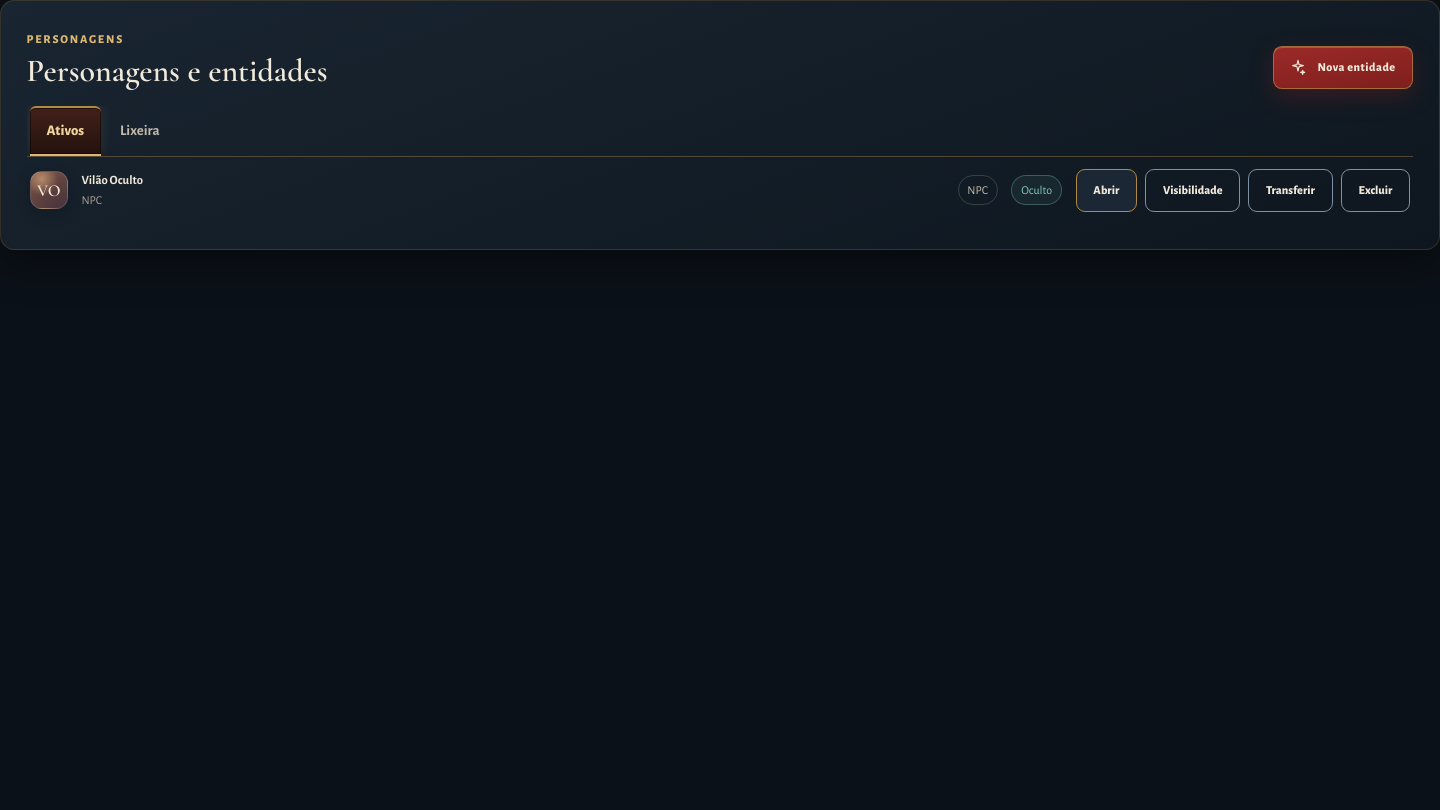
Test: CharacterList — 6.1 gestão de personagens › Narrador revela parcialmente uma entidade oculta (8.2): PUT envia a revelação exata
Click the button "Visibilidade" at (1193, 190), box left=1145, top=169, right=1240, bottom=212
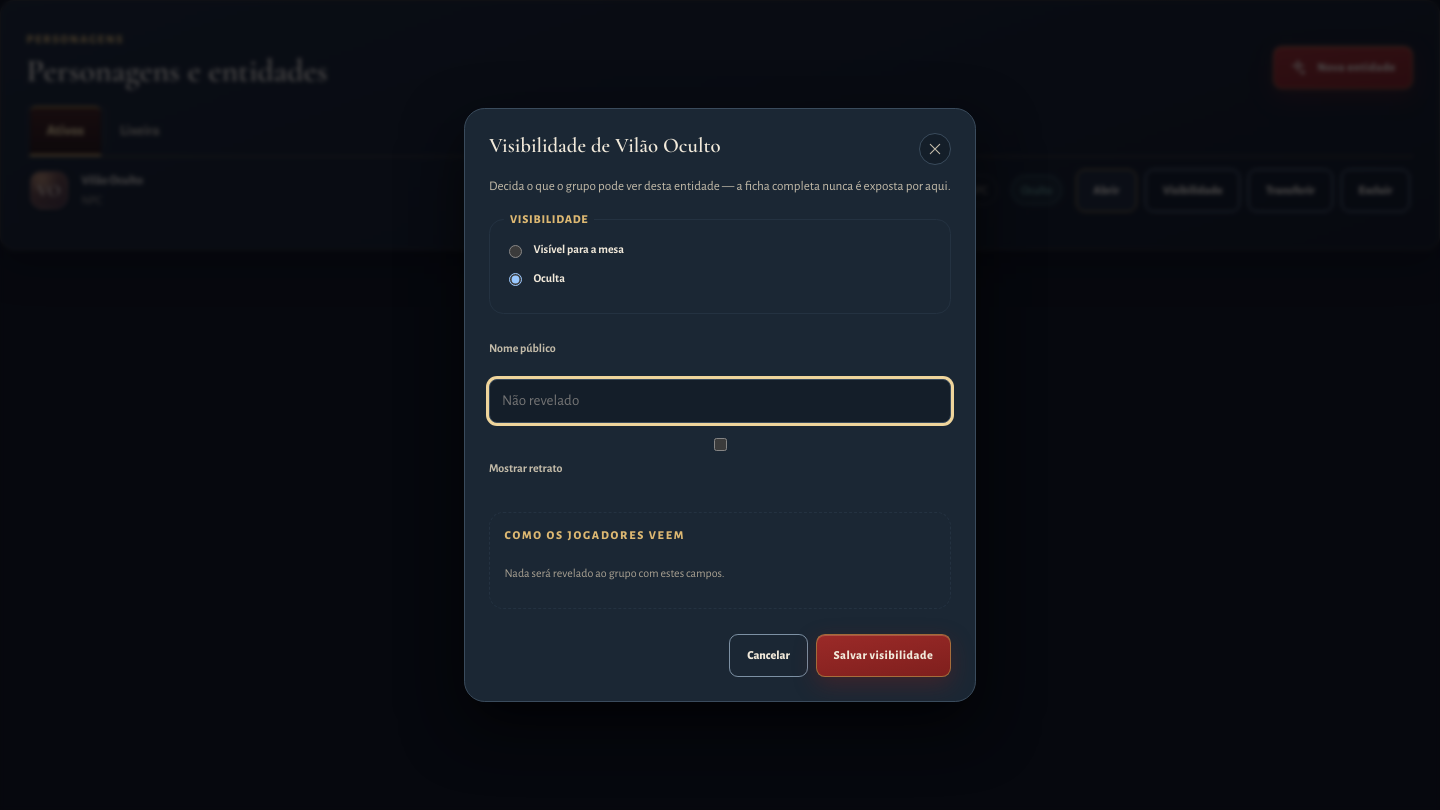
Type "Figura encapuzada" into the field labelled "Nome público" at (720, 401), box left=489, top=379, right=951, bottom=423
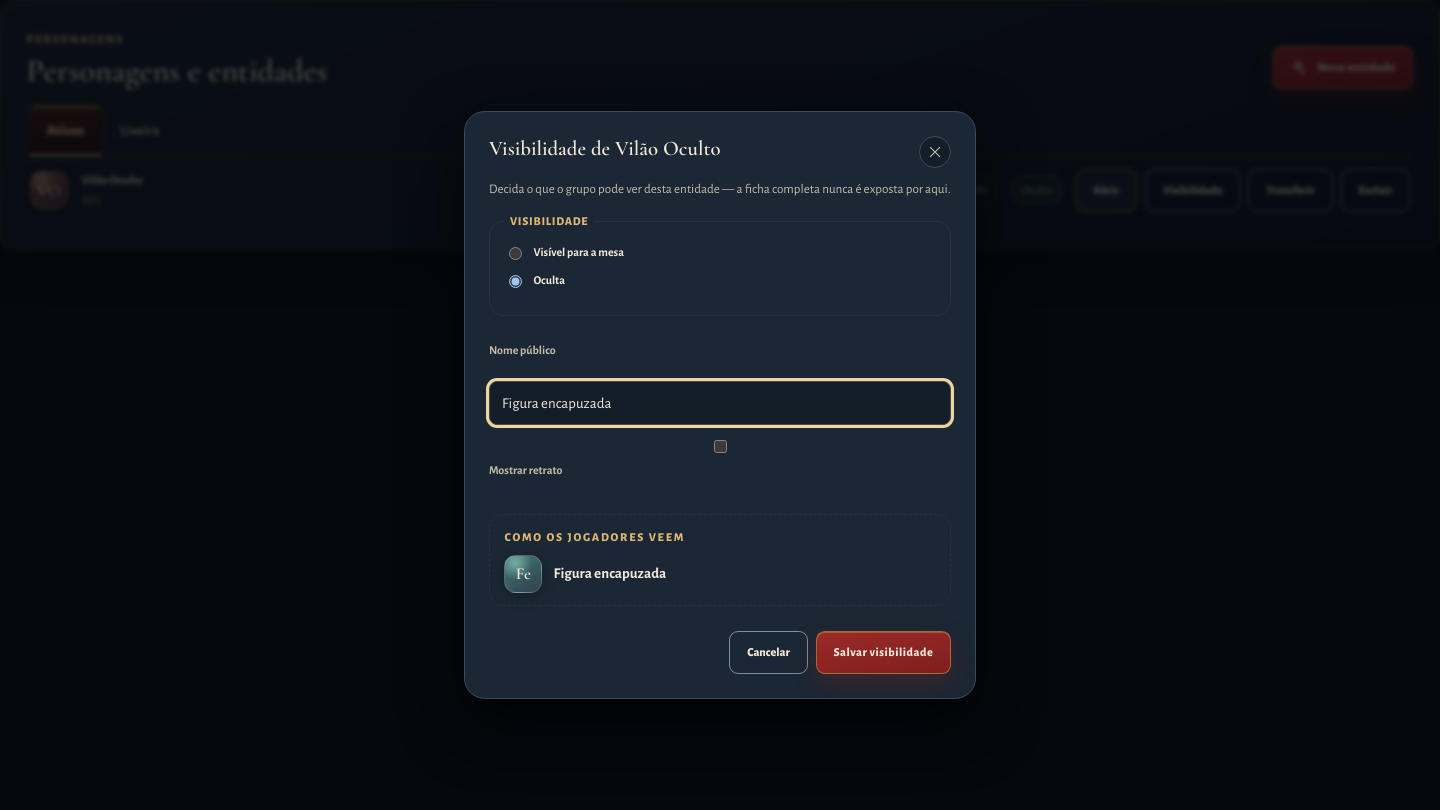
Click the checkbox labelled "Mostrar retrato" at (720, 447), box left=493, top=440, right=948, bottom=454
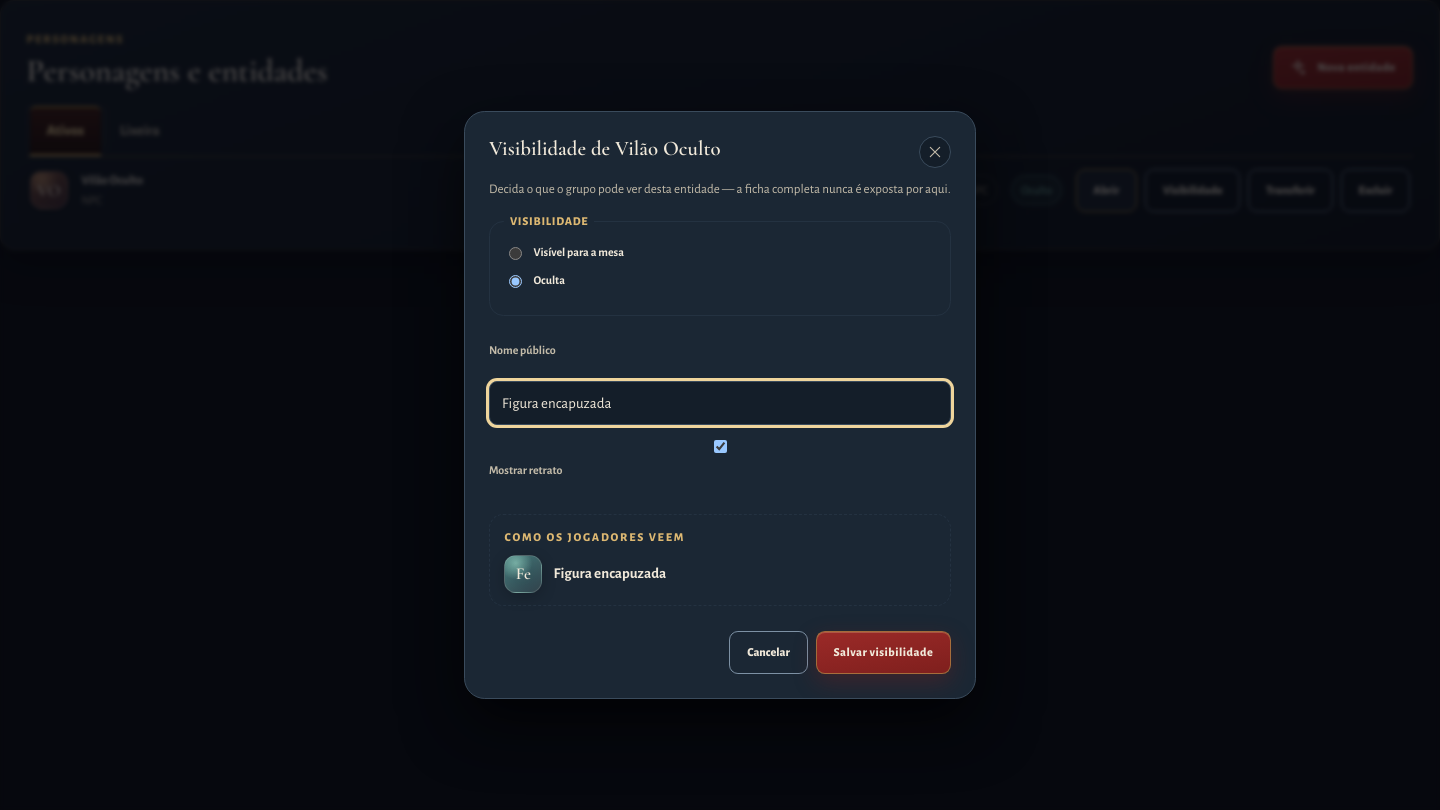
Click the button "Salvar visibilidade" at (883, 653), box left=816, top=631, right=951, bottom=674
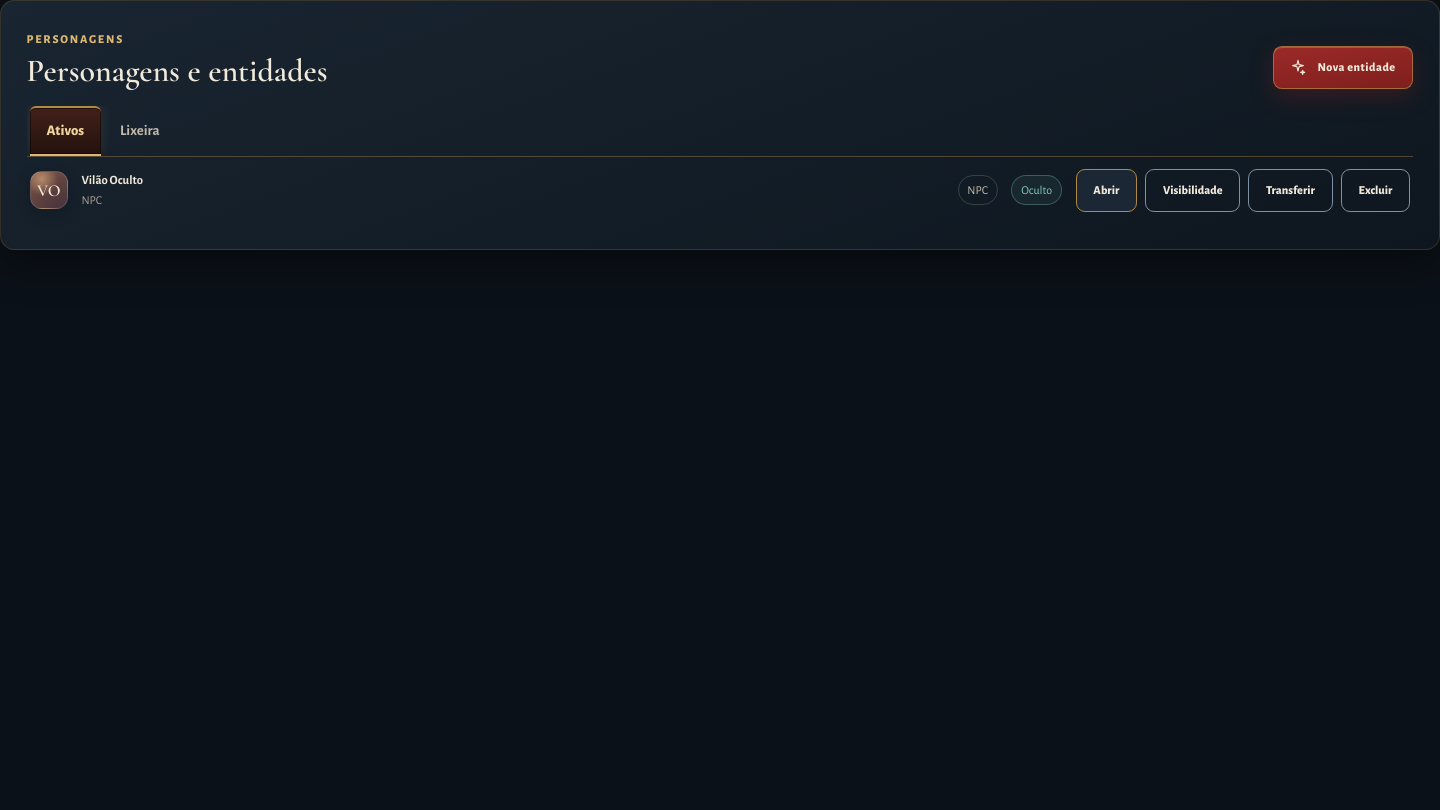
Expected: the dialog is gone
